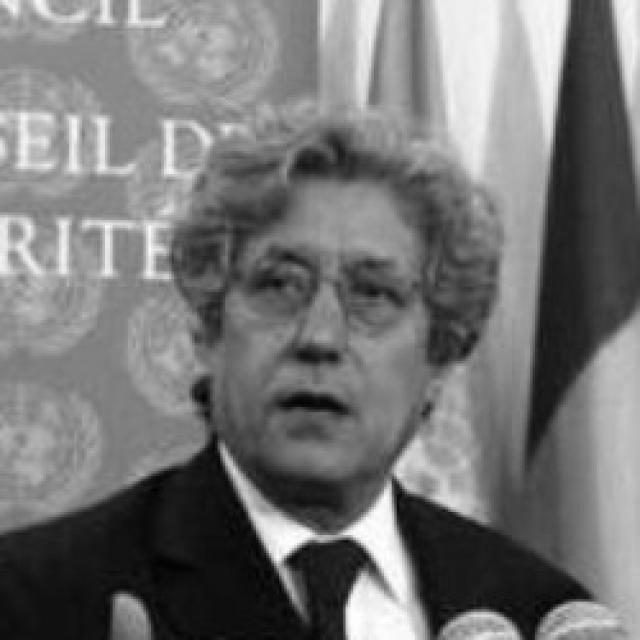real: (216, 124, 448, 510), (246, 259, 408, 315)
